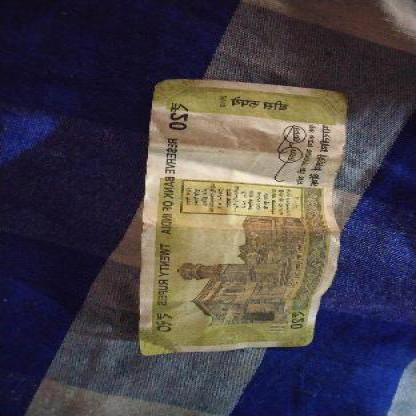New20Back: (139, 86, 341, 354)
